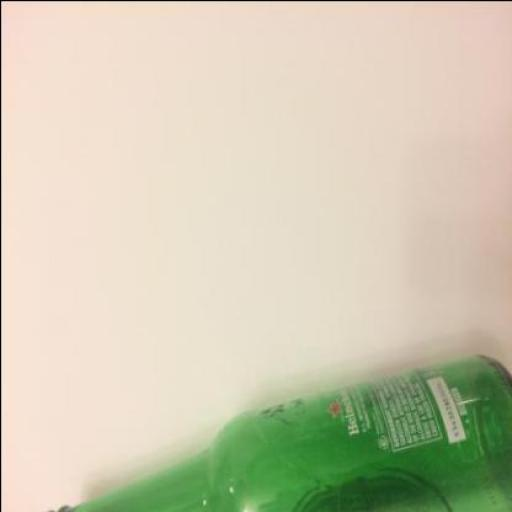glass: (43, 352, 511, 511)
